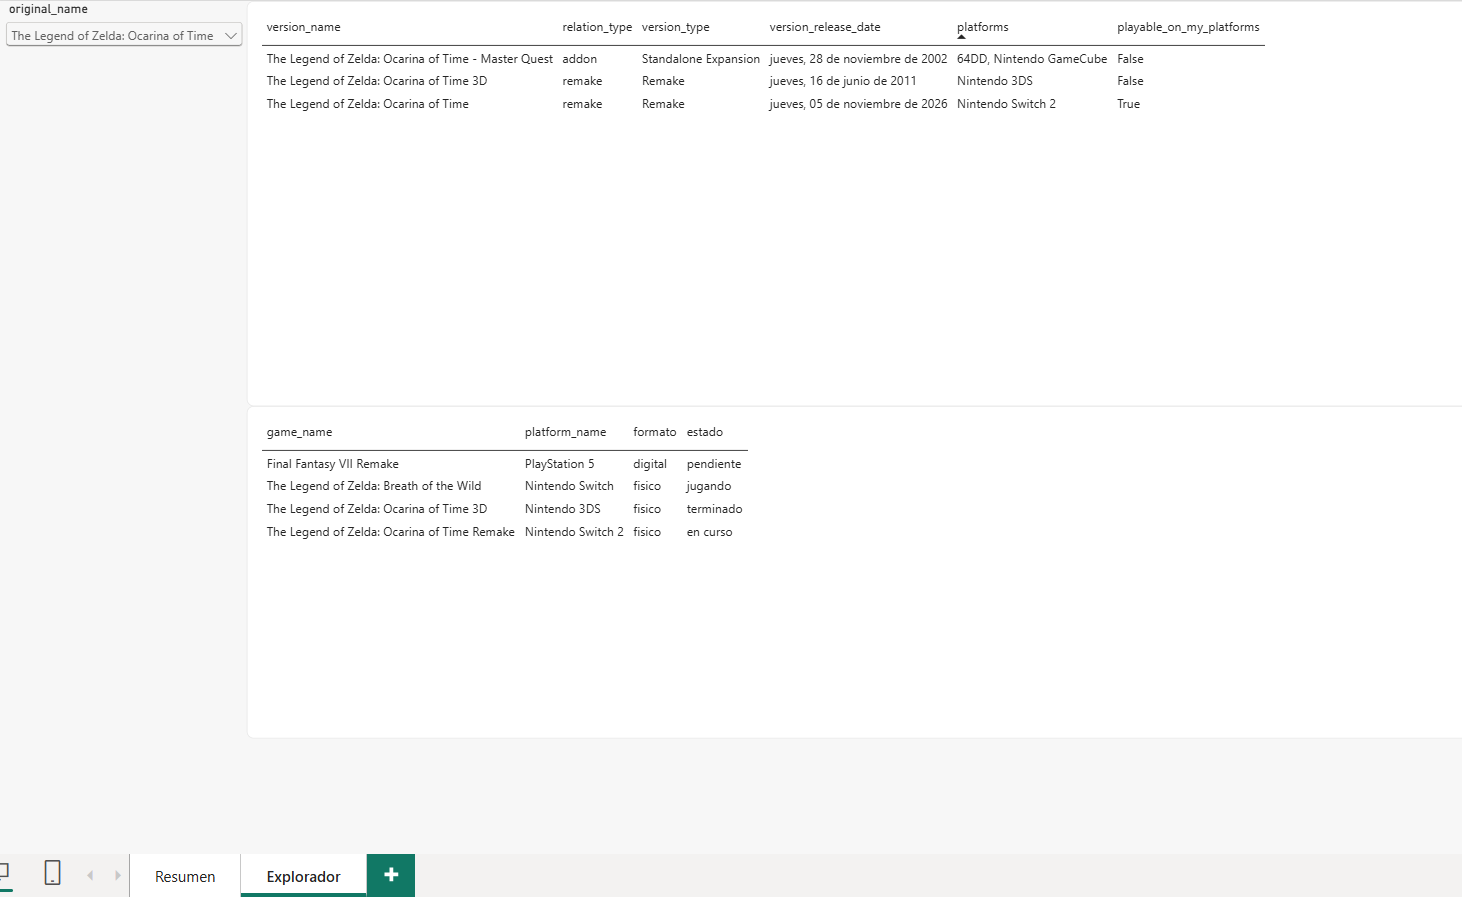

The page's visual inventory and layout, read from the dashboard file:
{"tool":"powerbi","page":{"name":"Explorador","canvas":[1920,1080],"ordinal":1},"visuals":[{"type":"slicer","fields":{"Values":["public game_versions.original_name"]},"box":[10,0,280,280],"z":0},{"type":"tableEx","fields":{"Values":["public game_versions.version_name","public game_versions.relation_type","public game_versions.version_type","public game_versions.version_release_date","public game_versions.platforms","public game_versions.playable_on_my_platforms"]},"box":[290,0,1630,462.9],"z":1},{"type":"tableEx","fields":{"Values":["public my_library.game_name","public my_library.platform_name","public my_library.formato","public my_library.estado"]},"box":[290,462.9,1630,380],"z":2}]}

Visuals, with their boxes on the page's 1920x1080 design canvas (x1, y1, x2, y2). These are canvas units, not pixel positions in the 1462x897 screenshot, which may show the page scaled, cropped or inside an application window:
slicer - public game_versions.original_name: detection(10, 0, 290, 280)
tableEx - public game_versions.version_name x public game_versions.relation_type: detection(290, 0, 1920, 463)
tableEx - public my_library.game_name x public my_library.platform_name: detection(290, 463, 1920, 843)
